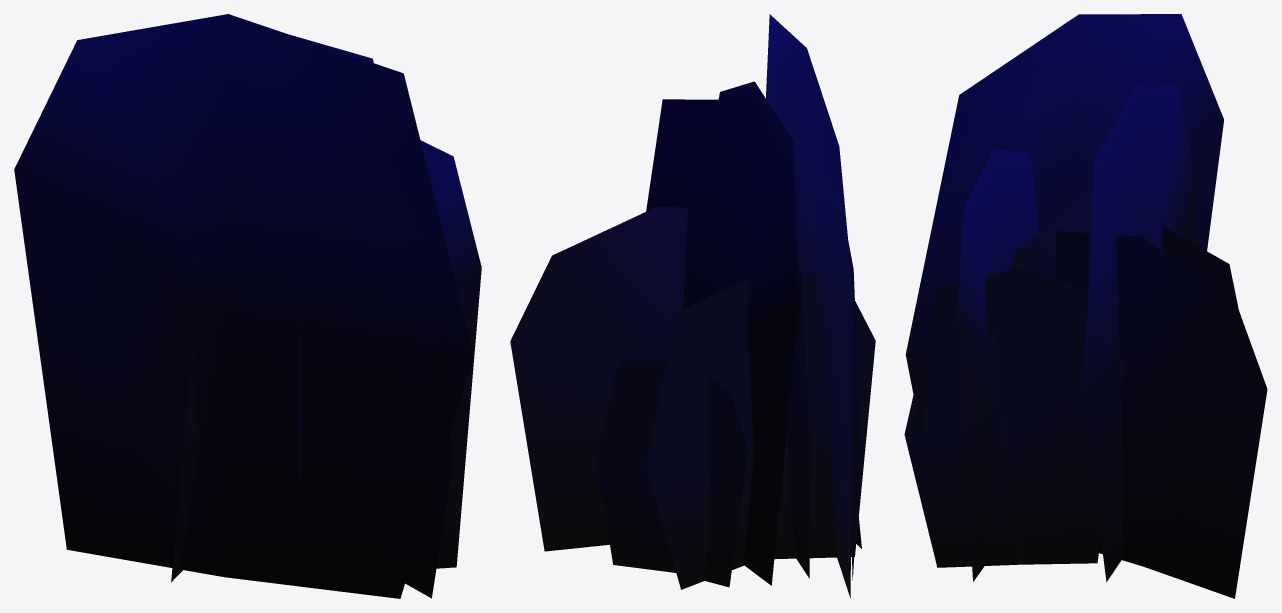
File: SM_Grass_M_Patch_S_03.fbx
The picture shows the model from 3 angles, left to right: view 1: azimuth 30°, elevation 25°; view 2: azimuth 150°, elevation 25°; view 3: azimuth 270°, elevation 25°; orthographic projection. The views are drawn at different scales.
Visible parts, largest first — view 1: SM_Grass_M_Patch_S_03; view 2: SM_Grass_M_Patch_S_03; view 3: SM_Grass_M_Patch_S_03.
Part boxes in pixels (x1,y1,x2,y2): SM_Grass_M_Patch_S_03: (14,14,481,598); SM_Grass_M_Patch_S_03: (510,14,875,598); SM_Grass_M_Patch_S_03: (904,14,1267,598).
Bounding box in the file's own units: 94.23 × 91.75 × 139.
